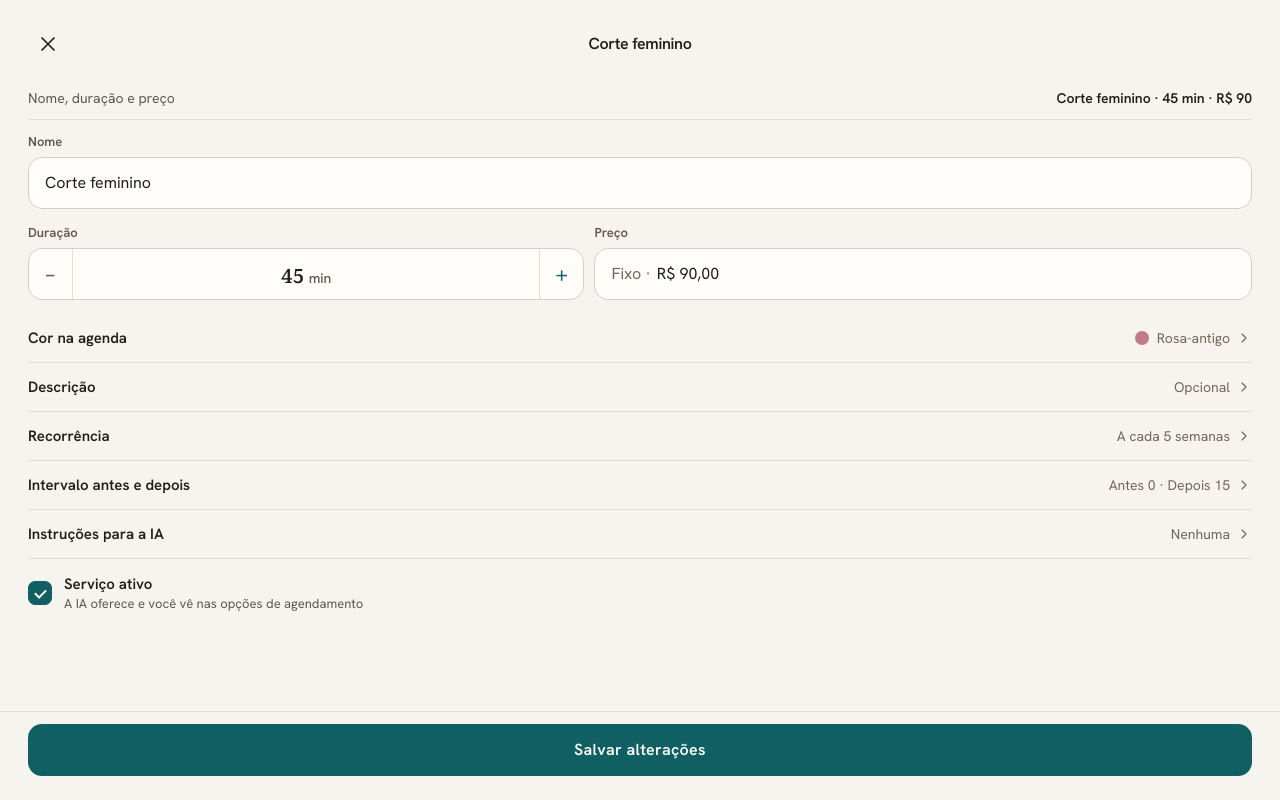
Goal095 prova 3: edição (S4 e Agenda:S1) › 'Cor na agenda' mostra as seis cores, na ordem e com os nomes do protótipo, sem 'Sem cor'
Expected: the field labelled "Nome" is shown, top-left (28, 157), bottom-right (1252, 209)
Step 1. Click the button "Cor na agenda Rosa-antigo" → [78, 338], box top-left (28, 314), bottom-right (1252, 362)
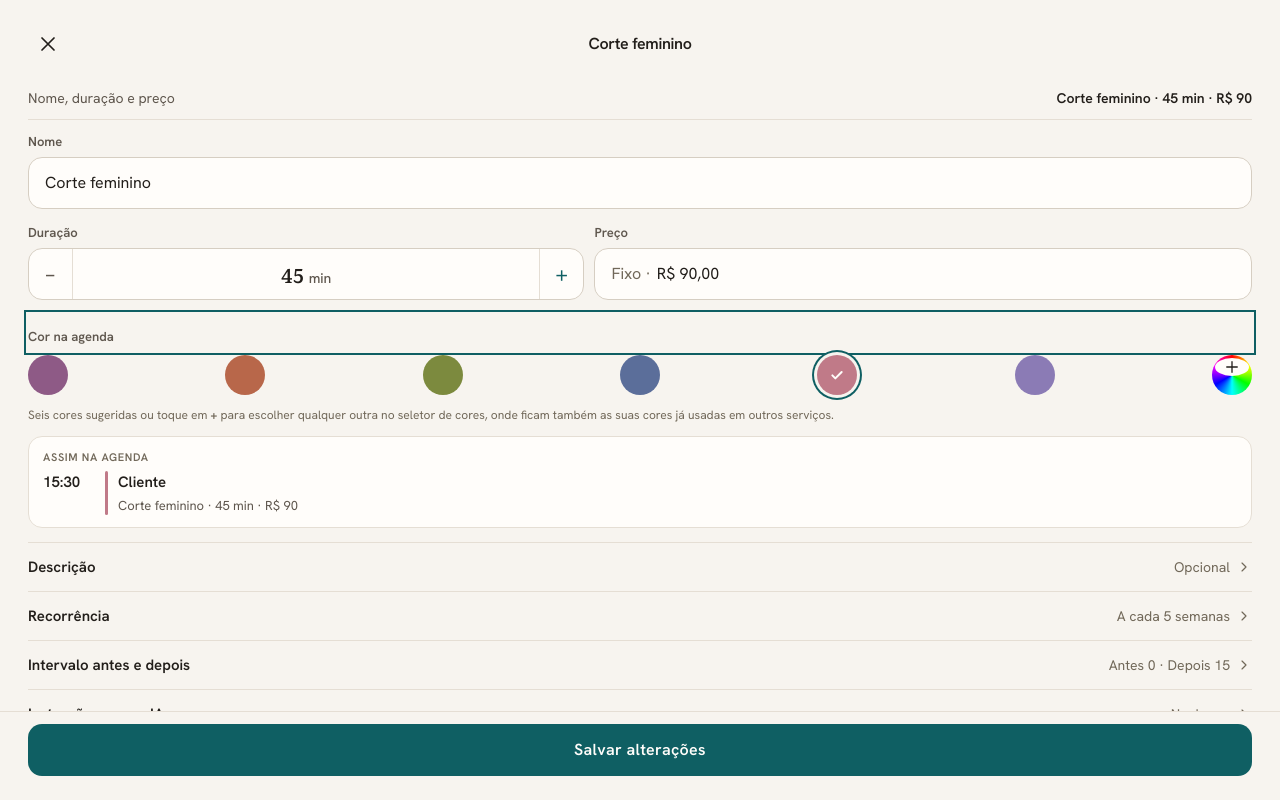
Expected: the radio button named "Rosa-antigo" is checked, top-left (817, 355), bottom-right (857, 395)
Expected: the text "Seis cores sugeridas ou toque em" is shown, top-left (28, 407), bottom-right (211, 423)
Expected: the button named "Escolher outra cor" is shown, top-left (1212, 355), bottom-right (1252, 395)
